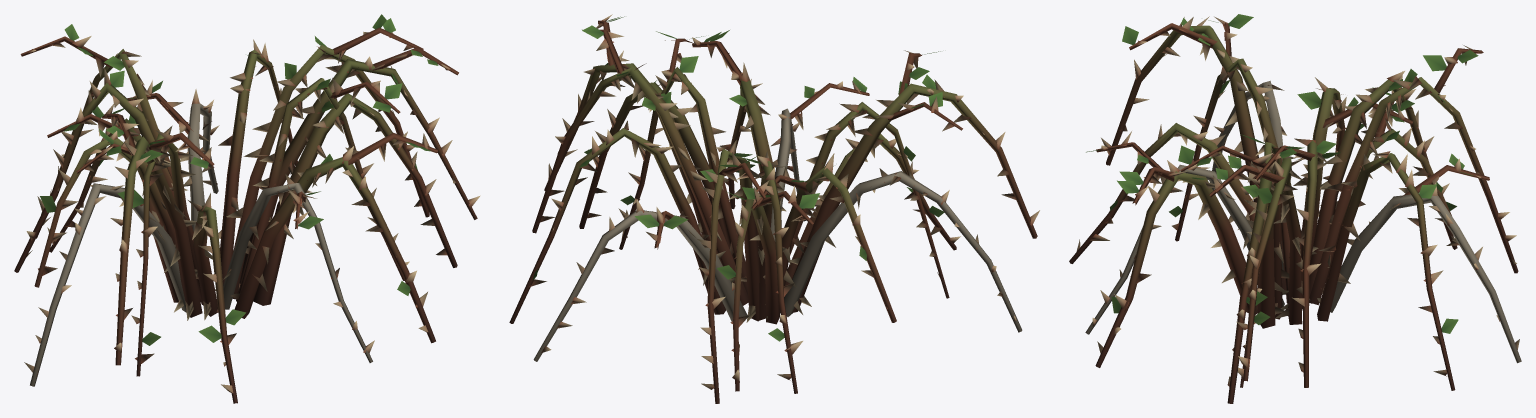
Rendered from deco-thorns-v1.glb.
The picture shows the model from 3 angles, left to right: view 1: azimuth 30°, elevation 25°; view 2: azimuth 150°, elevation 25°; view 3: azimuth 270°, elevation 25°; orthographic projection. The views are drawn at different scales.
Parts seen in each view (by area): view 1: 0_thorns; view 2: 0_thorns; view 3: 0_thorns.
Part boxes in pixels (x1,y1,x2,y2): 0_thorns: [14, 14, 480, 403]; 0_thorns: [509, 14, 1039, 403]; 0_thorns: [1069, 14, 1521, 403].
Bounding box in the file's own units: 2.83 × 1.42 × 2.36.
